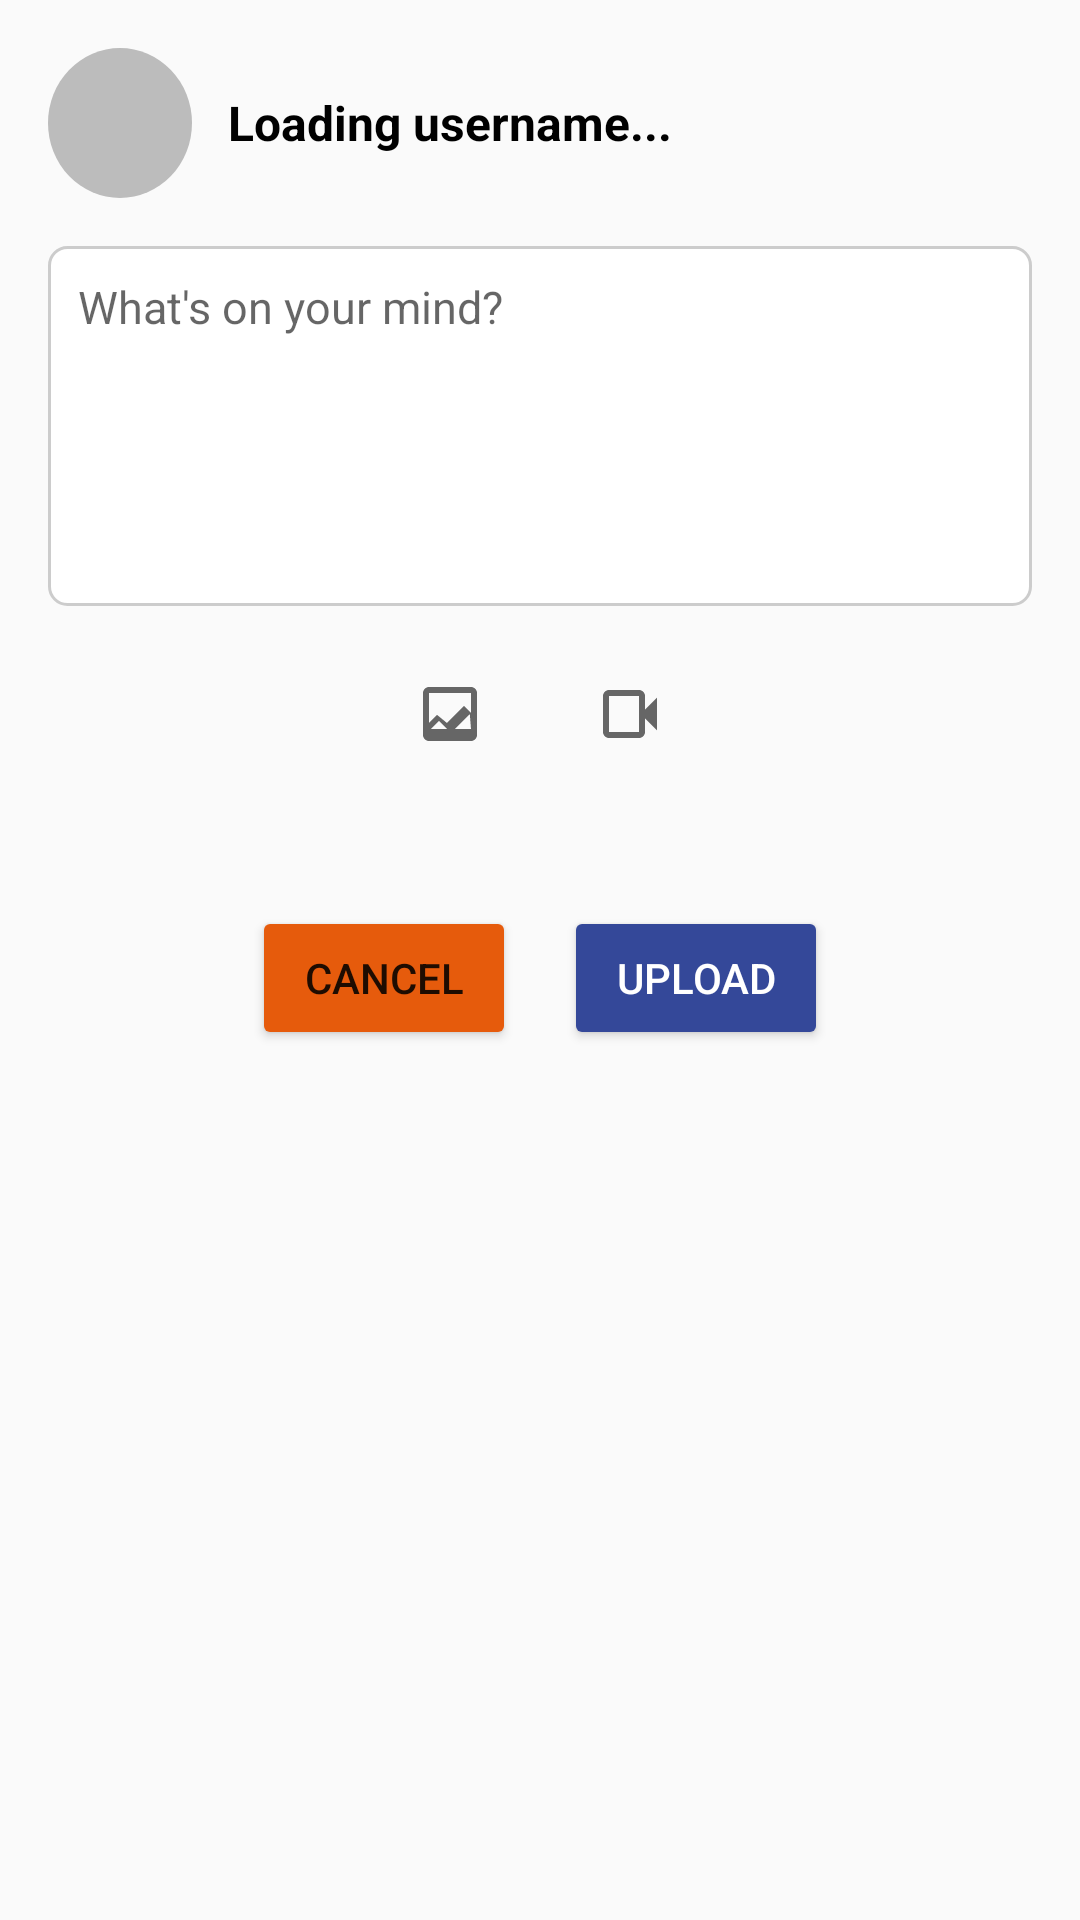

Named icons in this screenshot (1080px×1920px) and their bounding boxes, (x1, y1, x2, y2):
Add Image: (423, 687, 477, 741)
Add Video: (603, 690, 657, 738)
